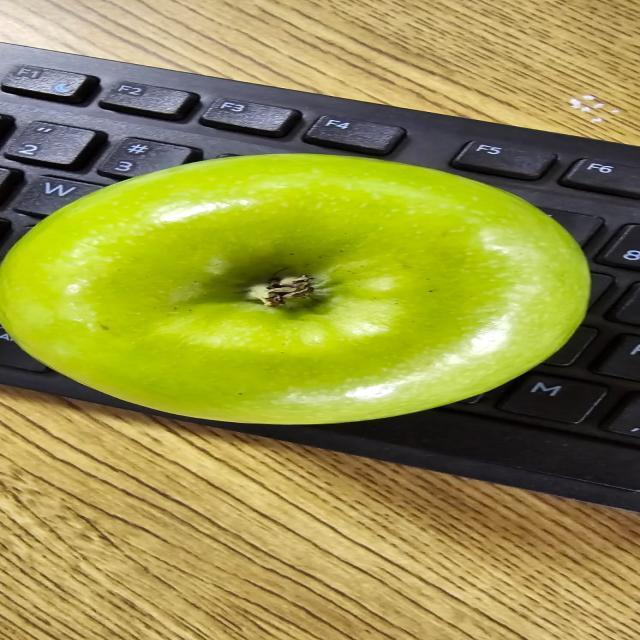Apel Granny Smith: (4, 147, 598, 430)
